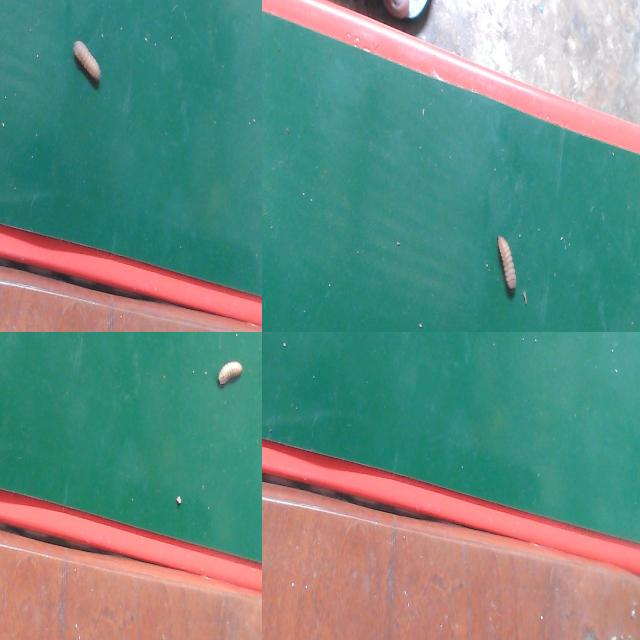Maggot: (495, 238, 522, 301), (72, 40, 104, 90), (217, 360, 246, 390)
